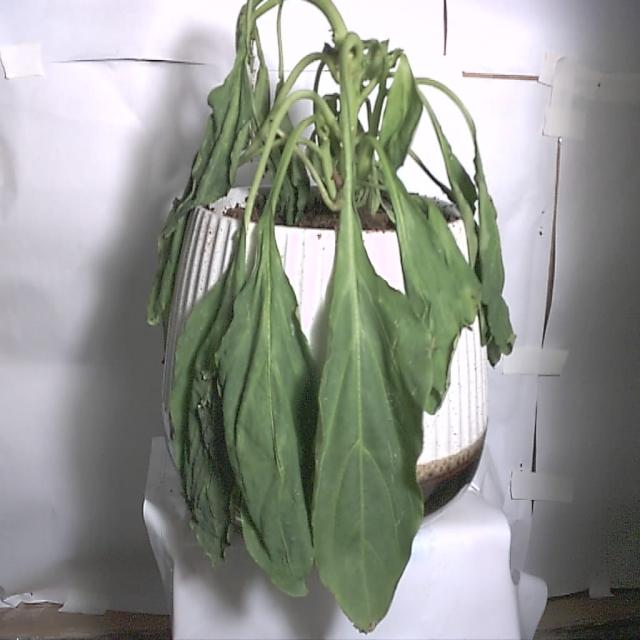Leaf: (308, 212, 425, 630), (212, 199, 328, 601), (172, 219, 265, 572), (387, 188, 482, 409)
